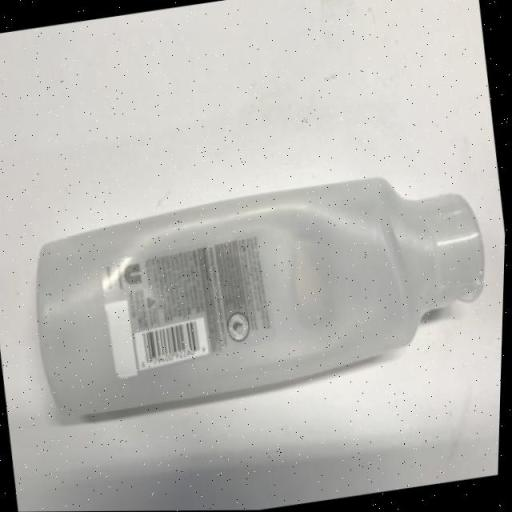plastic: (25, 161, 504, 427)
